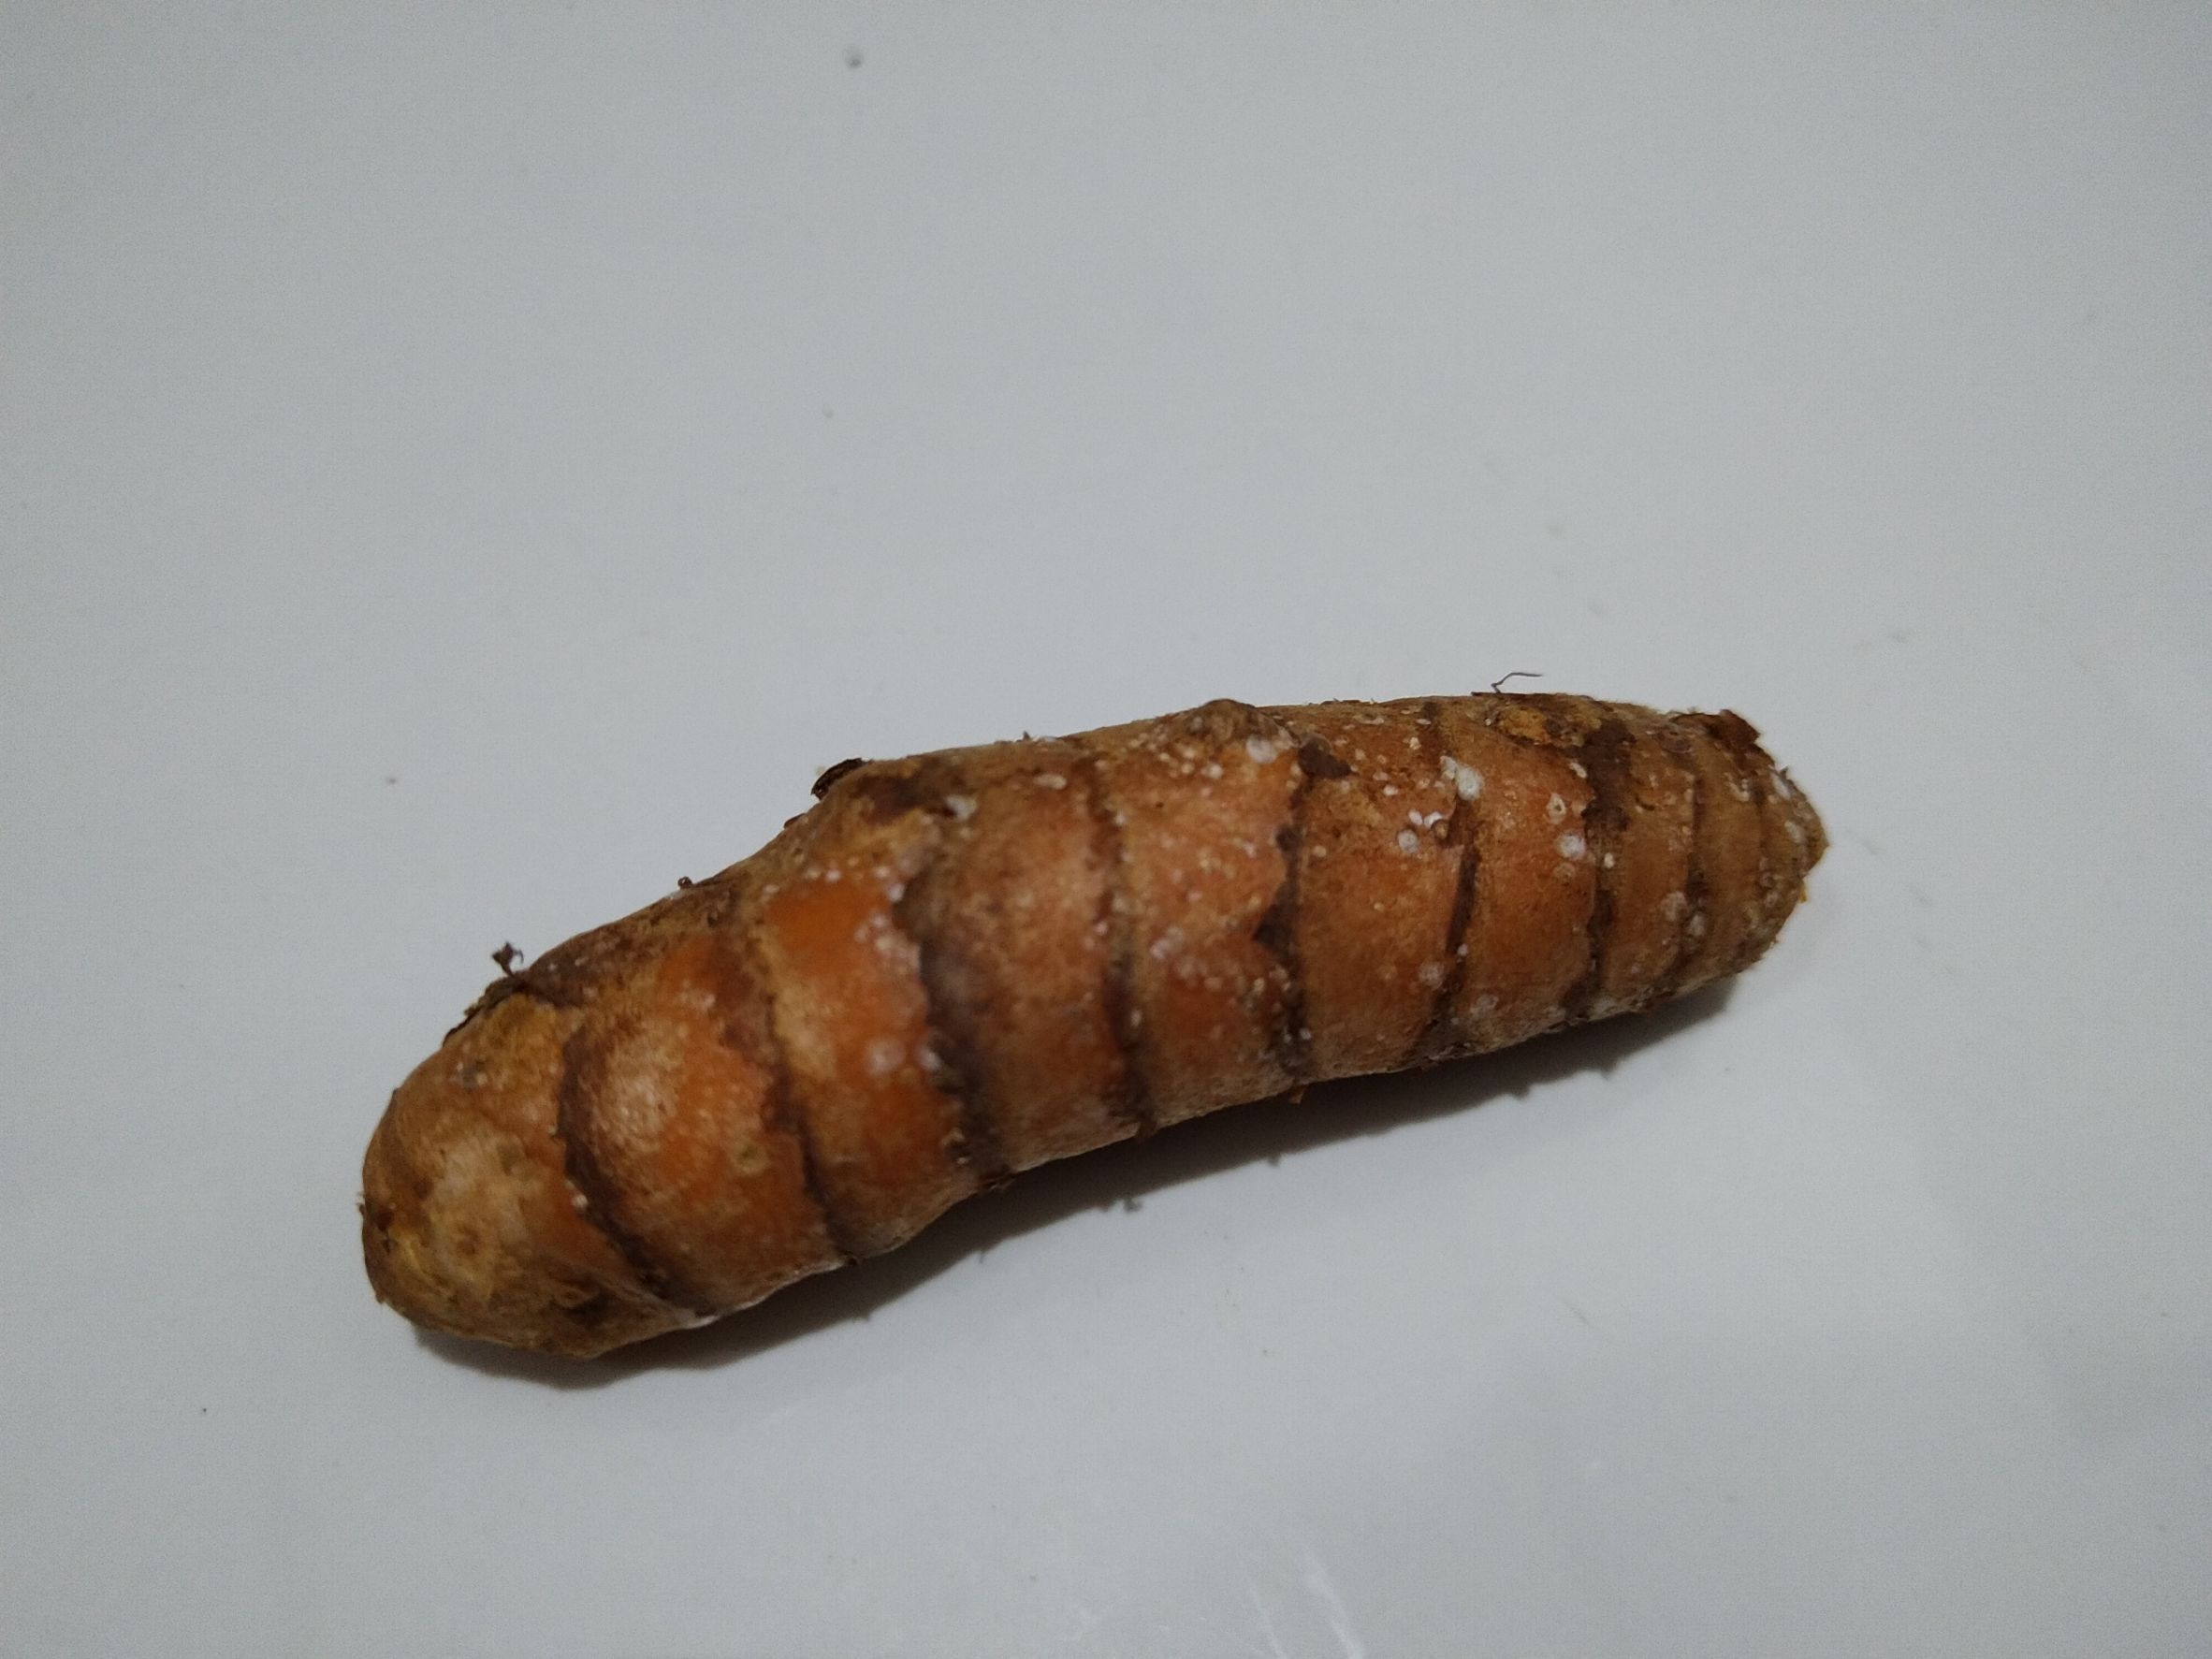Kunyit: (394, 702, 1825, 1385)
